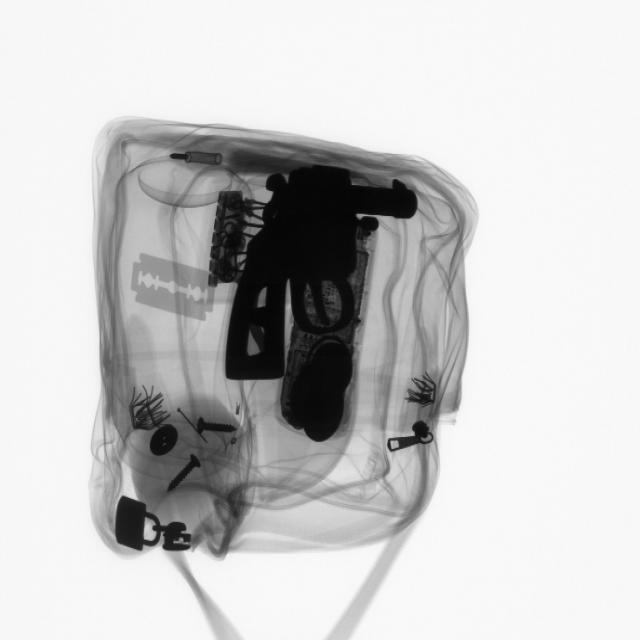BLADE: (123, 249, 223, 334)
GUN: (227, 165, 420, 384)
SCREW: (168, 449, 207, 500), (192, 414, 247, 445)
